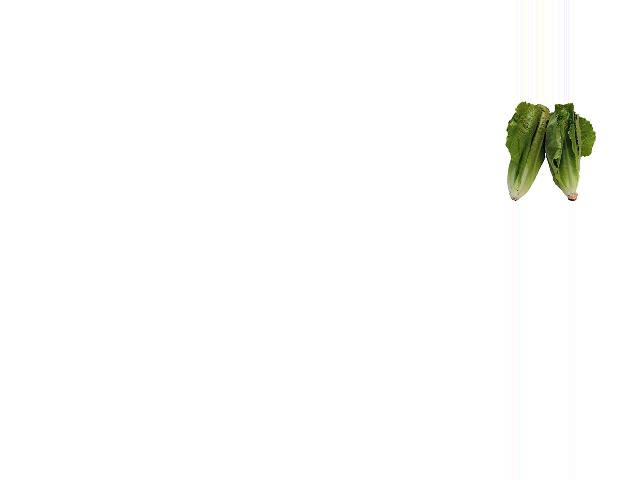lettuce: (501, 102, 585, 202)
